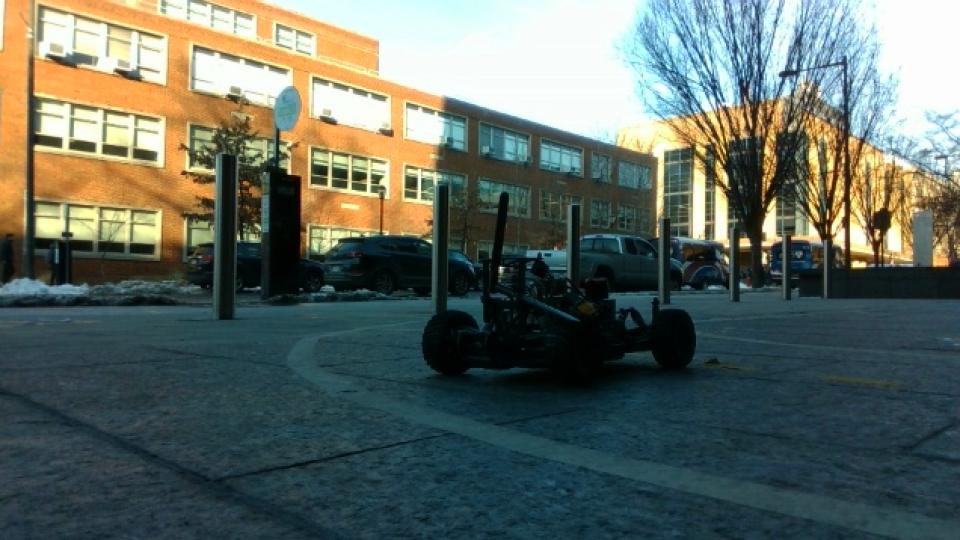car: (420, 187, 700, 385)
